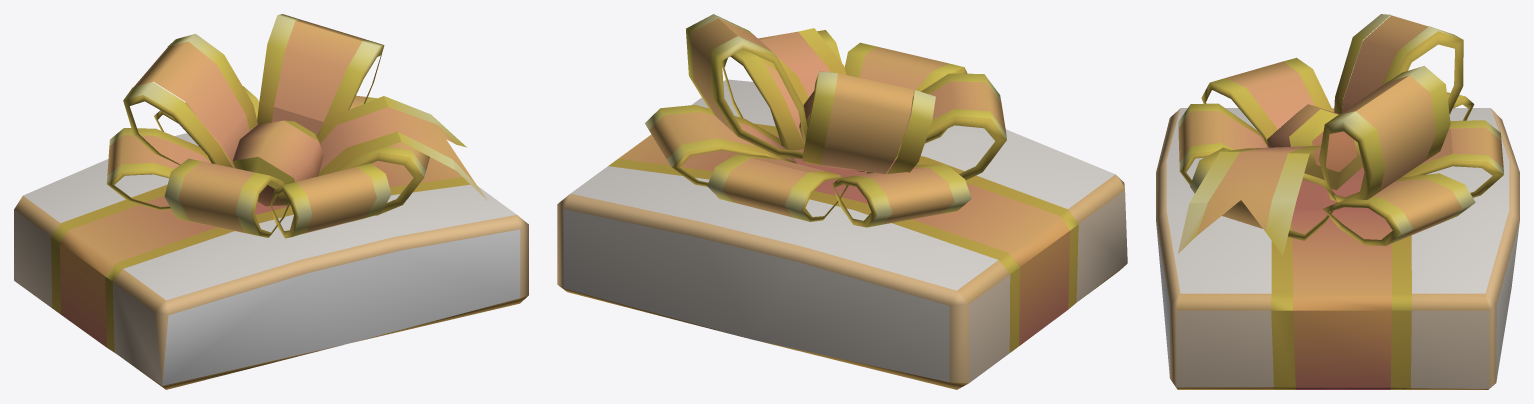
The model's file is trunkProgressionLidRookie.glb.
3 renders of one model, left to right at view 1: azimuth 30°, elevation 25°; view 2: azimuth 150°, elevation 25°; view 3: azimuth 270°, elevation 25°, orthographic. The views are drawn at different scales.
Parts seen in each view (by area): view 1: trunkProgressionLidRookie; view 2: trunkProgressionLidRookie; view 3: trunkProgressionLidRookie.
Part boxes in pixels (x1,y1,x2,y2): trunkProgressionLidRookie: [14, 14, 528, 389]; trunkProgressionLidRookie: [557, 14, 1127, 389]; trunkProgressionLidRookie: [1156, 14, 1519, 389].
Bounding box in the file's own units: 0.5916 × 0.3604 × 0.4639.
